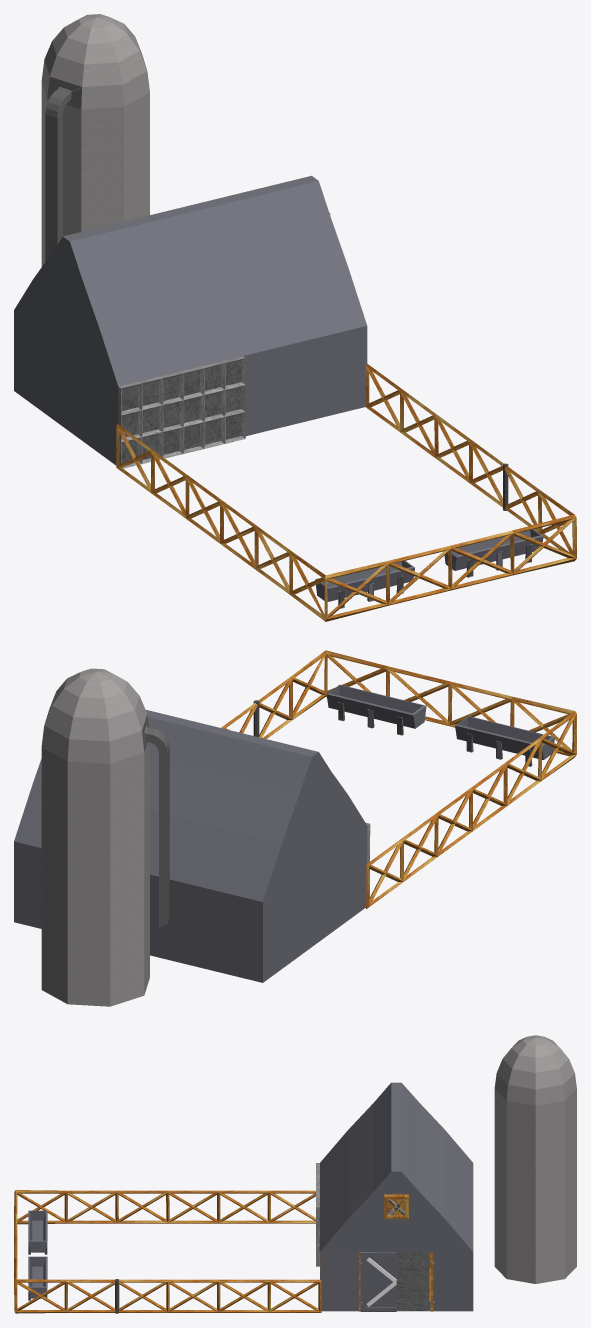
The model's file is model_intro_farmHouseV0.7.fbx.
The picture shows the model from 3 angles, top to bottom: view 1: azimuth 30°, elevation 25°; view 2: azimuth 150°, elevation 25°; view 3: azimuth 270°, elevation 25°; orthographic projection. The views are drawn at different scales.
Parts seen in each view (by area): view 1: mesh_farm_building, mesh_farm_watertower, mesh_farm_longfence, mesh_farm_BigGate, mesh_farm_gate, mesh_farm_troff, mesh_farm_troff2; view 2: mesh_farm_building, mesh_farm_watertower, mesh_farm_longfence, mesh_farm_troff2, mesh_farm_troff; view 3: mesh_farm_building, mesh_farm_watertower, mesh_farm_longfence, UV_farmhouse_mergedObject.003, mesh_farm_gate, mesh_farm_troff, mesh_farm_troff2, mesh_farm_BigGate.
Boxes of the visible parts, box(x1,y1,x2,y2) form: mesh_farm_building: box(14, 175, 367, 465); mesh_farm_watertower: box(41, 14, 149, 266); mesh_farm_longfence: box(116, 363, 576, 621); mesh_farm_BigGate: box(118, 356, 245, 468); mesh_farm_gate: box(434, 413, 503, 507); mesh_farm_troff: box(315, 561, 414, 608); mesh_farm_troff2: box(444, 529, 543, 577); mesh_farm_building: box(14, 710, 367, 982); mesh_farm_watertower: box(41, 668, 169, 1006); mesh_farm_longfence: box(258, 650, 576, 909); mesh_farm_troff2: box(326, 684, 426, 735); mesh_farm_troff: box(455, 716, 554, 766); mesh_farm_building: box(320, 1082, 473, 1311); mesh_farm_watertower: box(494, 1035, 576, 1283); mesh_farm_longfence: box(14, 1190, 321, 1313); UV_farmhouse_mergedObject.003: box(360, 1252, 396, 1311); mesh_farm_gate: box(118, 1279, 220, 1312); mesh_farm_troff: box(28, 1210, 47, 1254); mesh_farm_troff2: box(28, 1256, 47, 1300); mesh_farm_BigGate: box(316, 1163, 319, 1266).
Bounding box in the file's own units: 950 × 1107 × 2446.
1 material, 1 textured.
